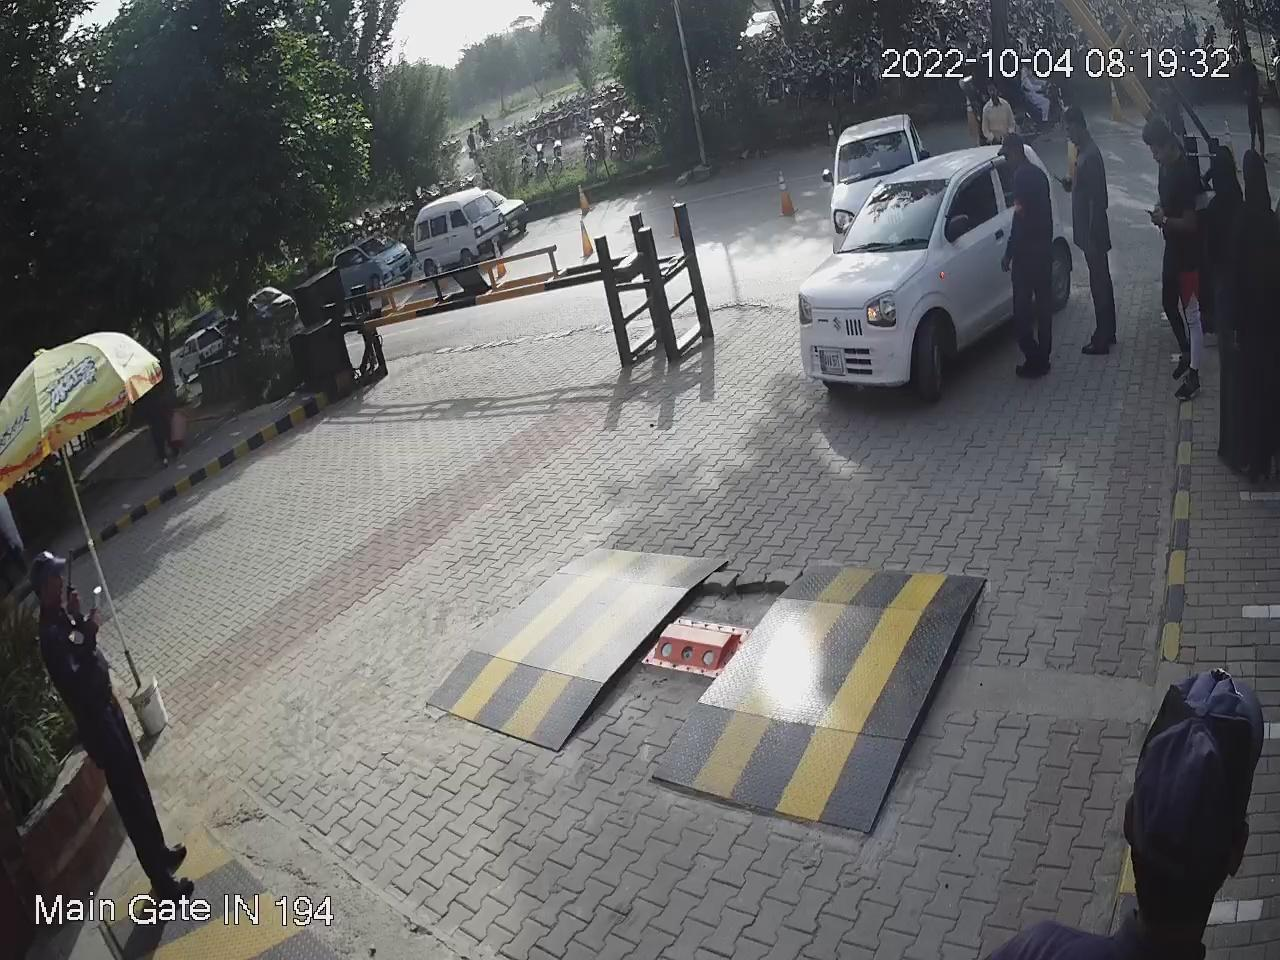windshield: (846, 172, 948, 252)
